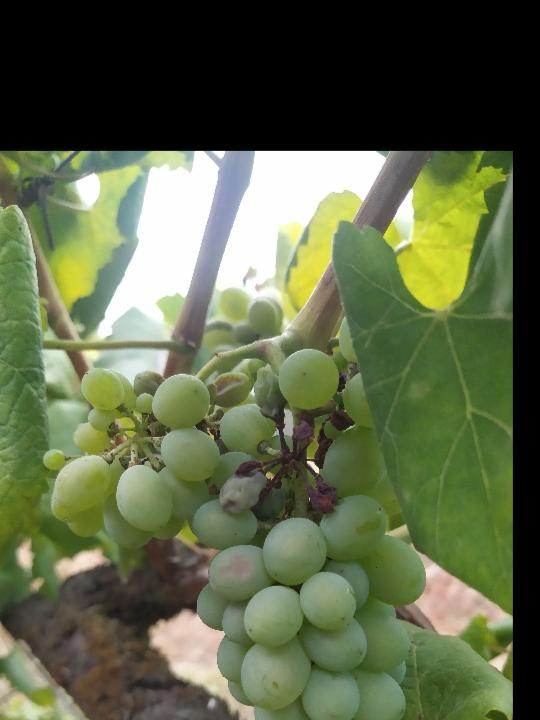grape: (50, 346, 429, 720)
